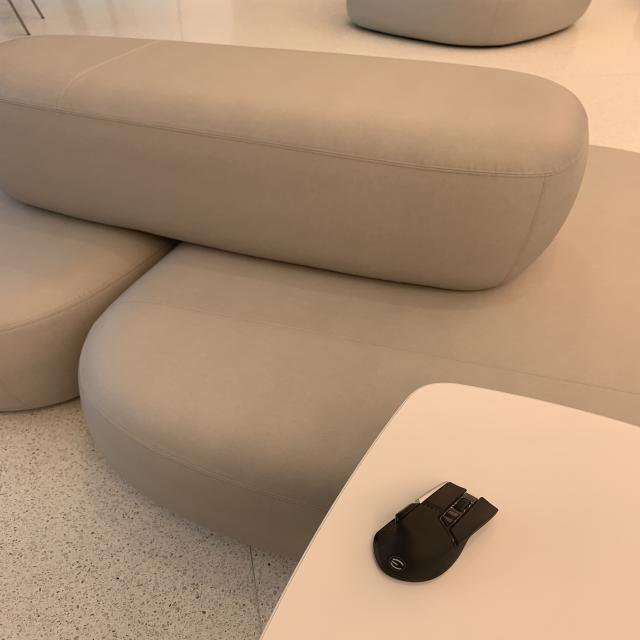Mouse: (358, 478, 503, 590)
